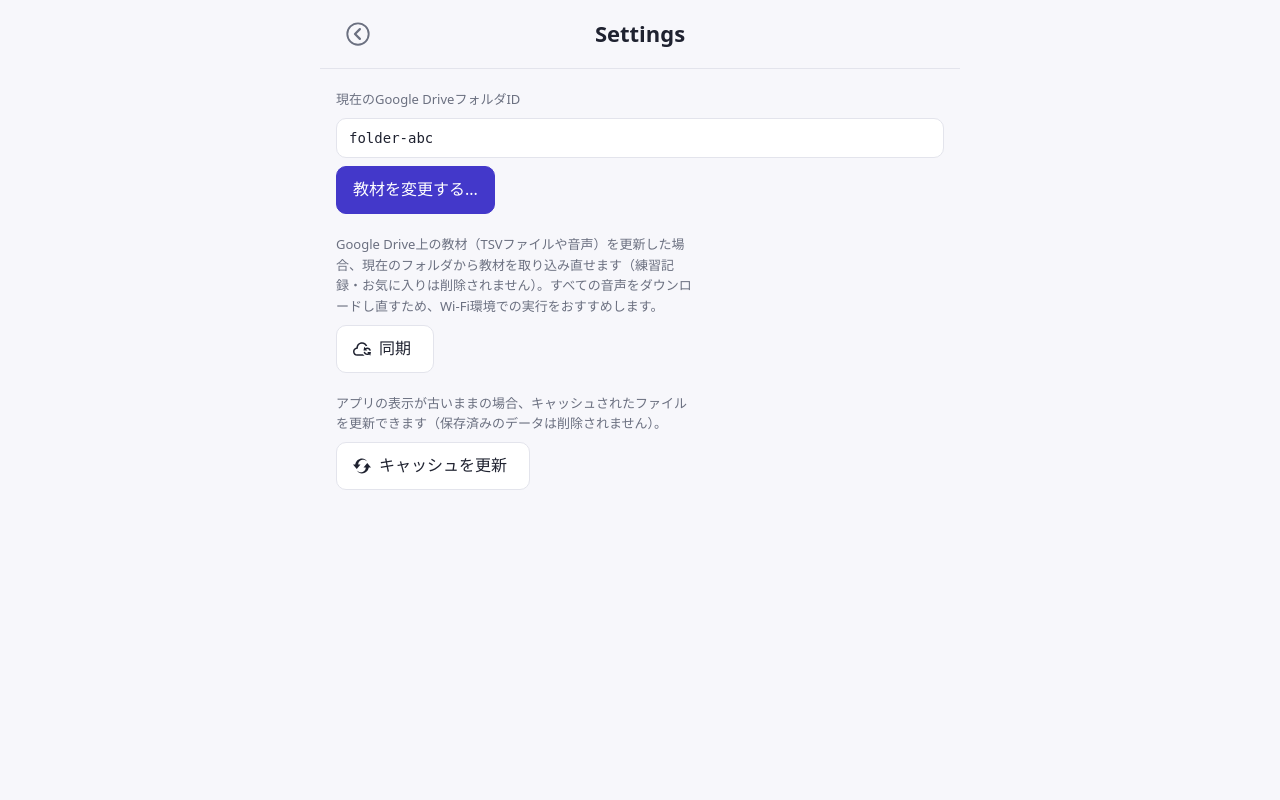
Test: SettingsScreen › 教材変更ポップアップ › 「変更して同期」でポップアップが閉じ、入力したIDでonChangeFolderが呼ばれる
Click the button "教材を変更する..." at (415, 190), box [336, 166, 495, 214]
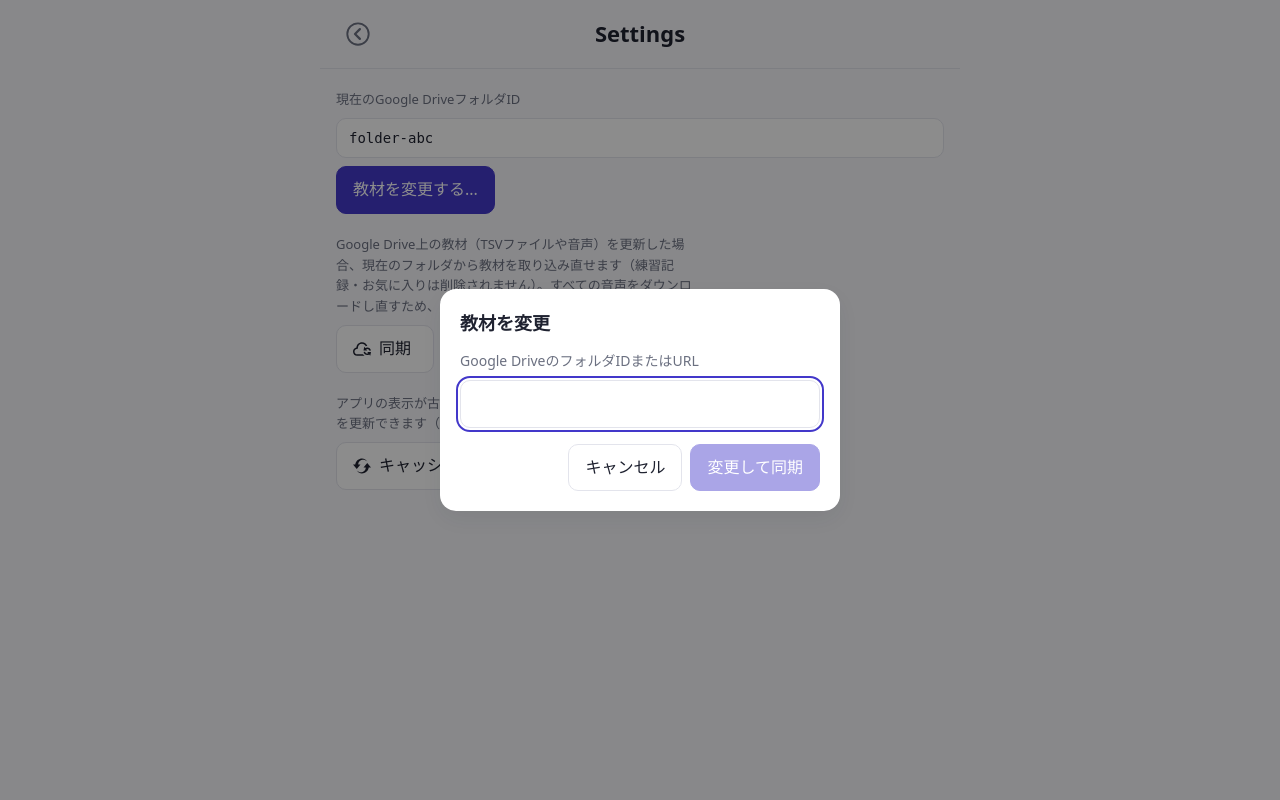
Type "folder-xyz" into the field labelled "Google DriveのフォルダIDまたはURL" at (640, 404), box [460, 380, 820, 428]
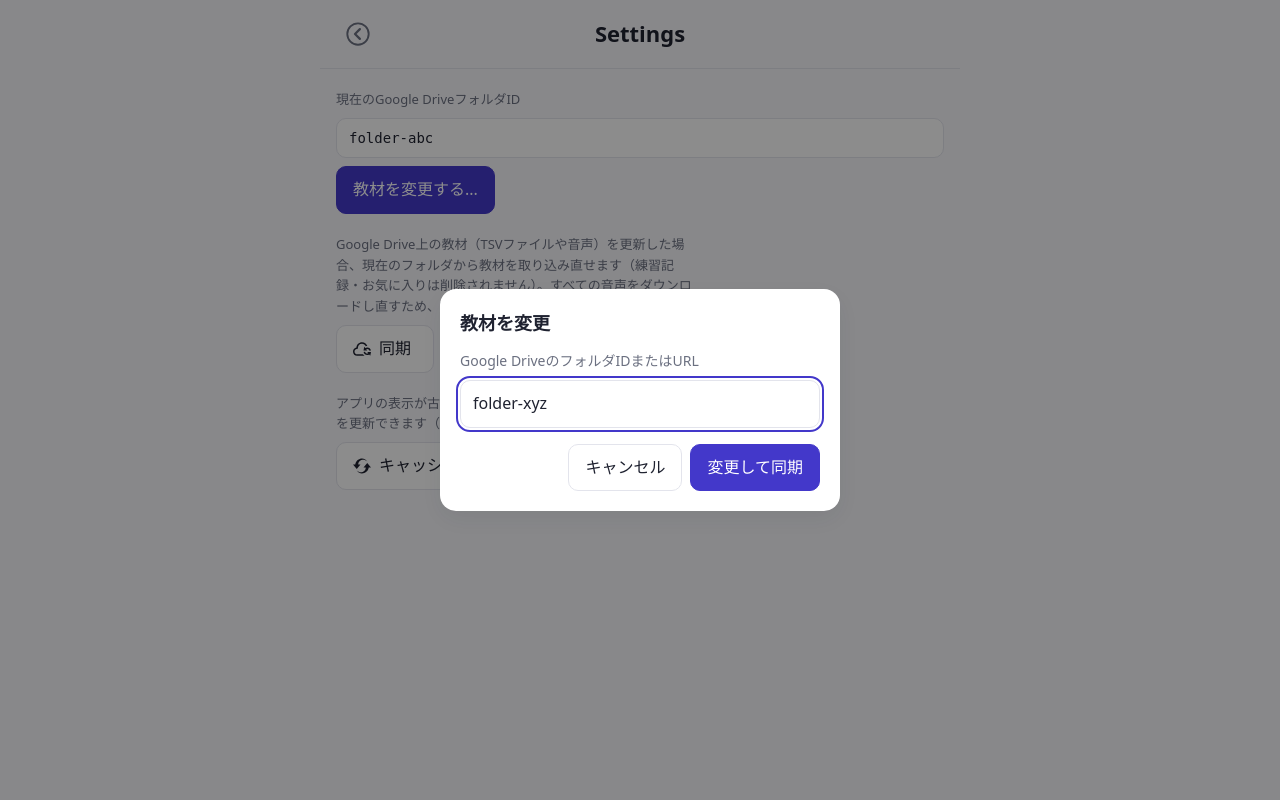
Click the button "変更して同期" at (755, 467), box [690, 444, 820, 491]
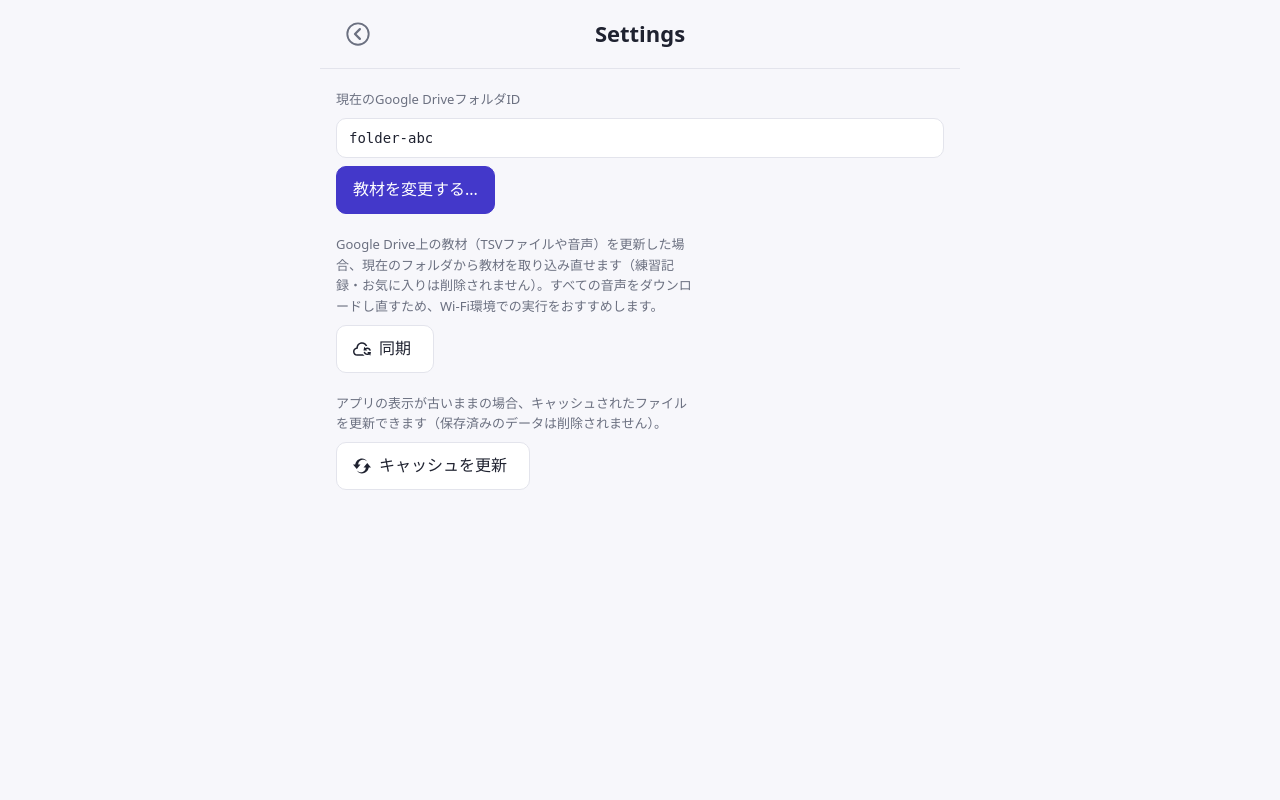
Now the dialog is gone
